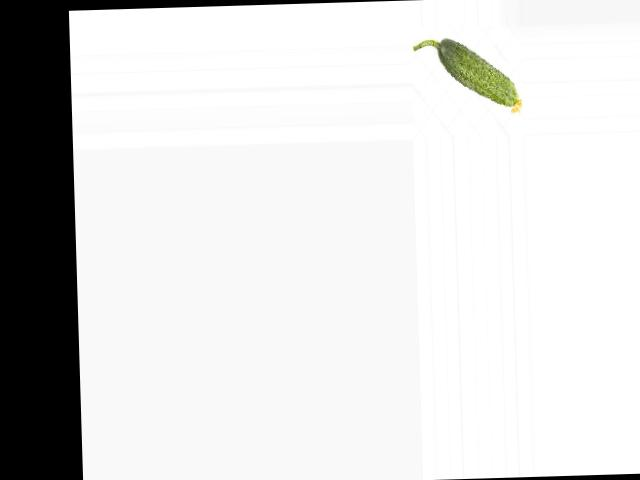cucumber: (414, 35, 523, 117)
